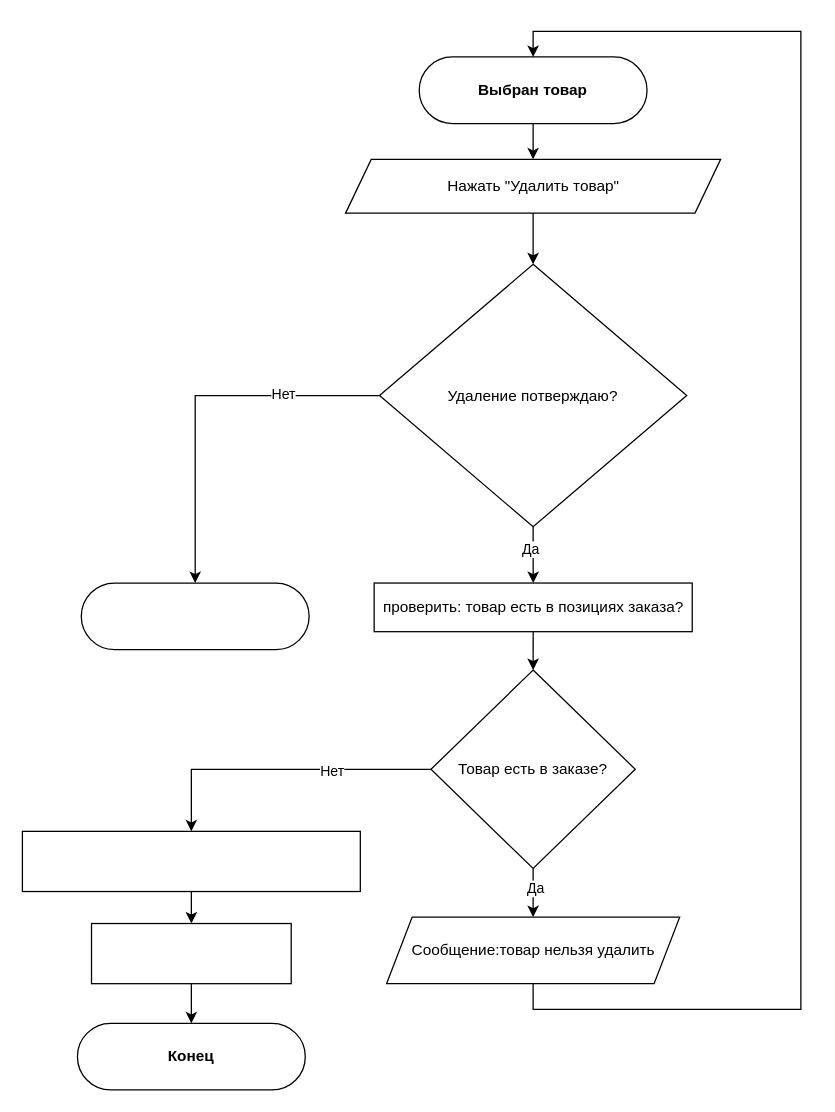
This 835x1112 diagram has some shape labels left out. The shapes that lost their labels are listed below. From the top down, each one's centre as x and y in pixels, then its label:
the point at 194,616: Заполнена форма товара
the point at 190,861: Удалить товар и связанное фото
the point at 190,953: Обновить каталог
